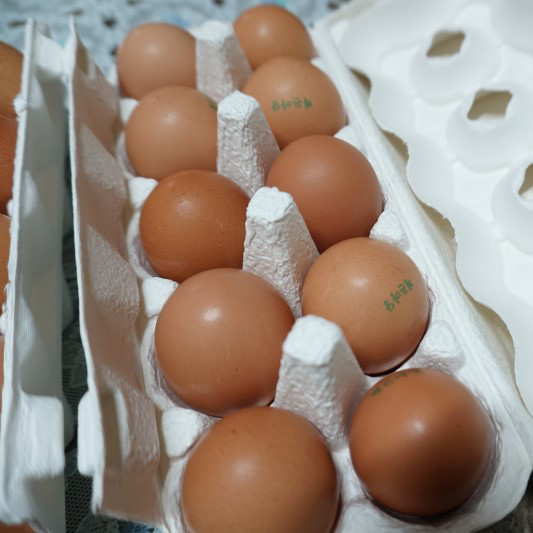egg: (119, 10, 491, 533)
